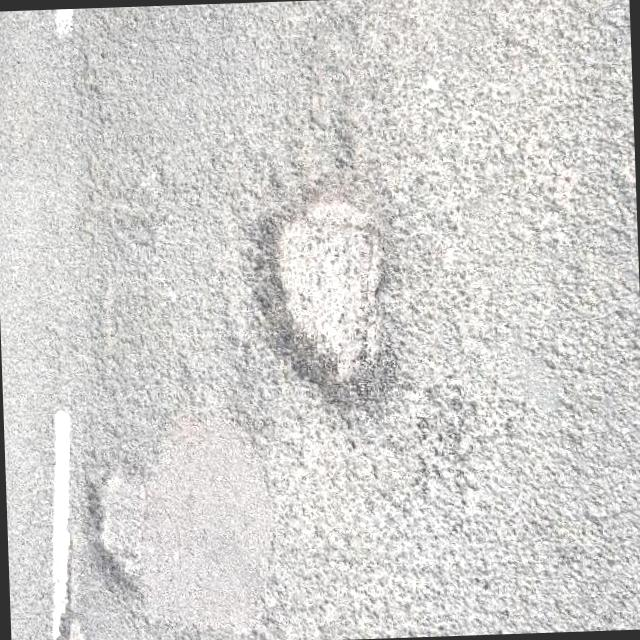pothole: (238, 172, 414, 430), (68, 461, 183, 602)
